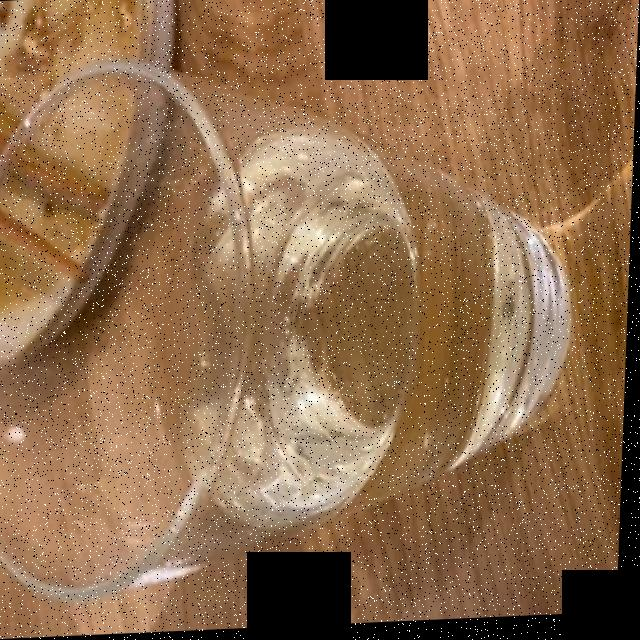wine-white: (180, 132, 549, 541)
